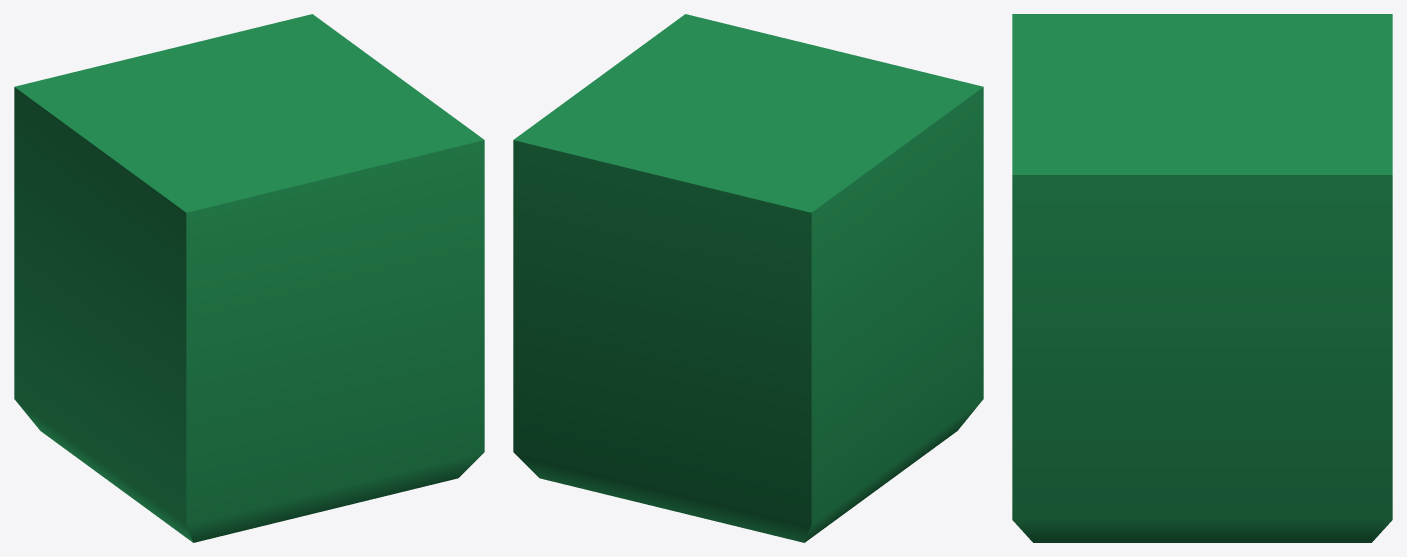
Rendered from puzzlecube_center_puzzlecube_V.glb.
The picture shows the model from 3 angles, left to right: view 1: azimuth 30°, elevation 25°; view 2: azimuth 150°, elevation 25°; view 3: azimuth 270°, elevation 25°; orthographic projection. The views are drawn at different scales.
Parts seen in each view (by area): view 1: puzzlecube_V; view 2: puzzlecube_V; view 3: puzzlecube_V.
Part boxes in pixels (left/top/right/bottom): puzzlecube_V: left=14, top=14, right=484, bottom=542; puzzlecube_V: left=513, top=14, right=983, bottom=542; puzzlecube_V: left=1012, top=14, right=1392, bottom=542.
Size of the model in its own units: 0.1333 by 0.1457 by 0.1333.
1 material, 1 textured.
